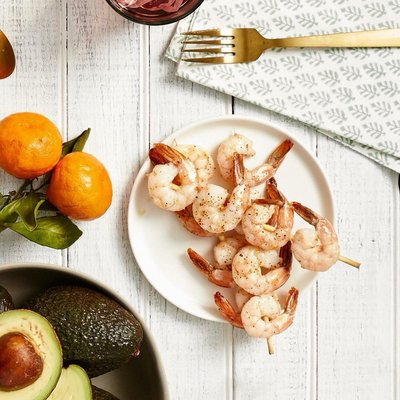pasta: (232, 244, 291, 296)
sushi: (0, 264, 145, 399)
taco: (46, 151, 112, 221), (0, 111, 63, 180)
